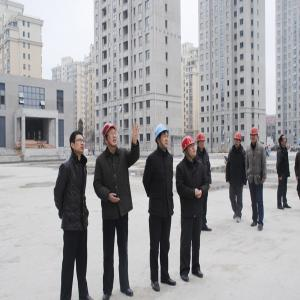blue: (154, 125, 170, 151)
none: (71, 131, 86, 155), (280, 135, 288, 148)
red: (103, 123, 119, 149), (182, 136, 198, 160), (197, 134, 207, 150), (251, 127, 260, 144), (236, 132, 243, 148)
